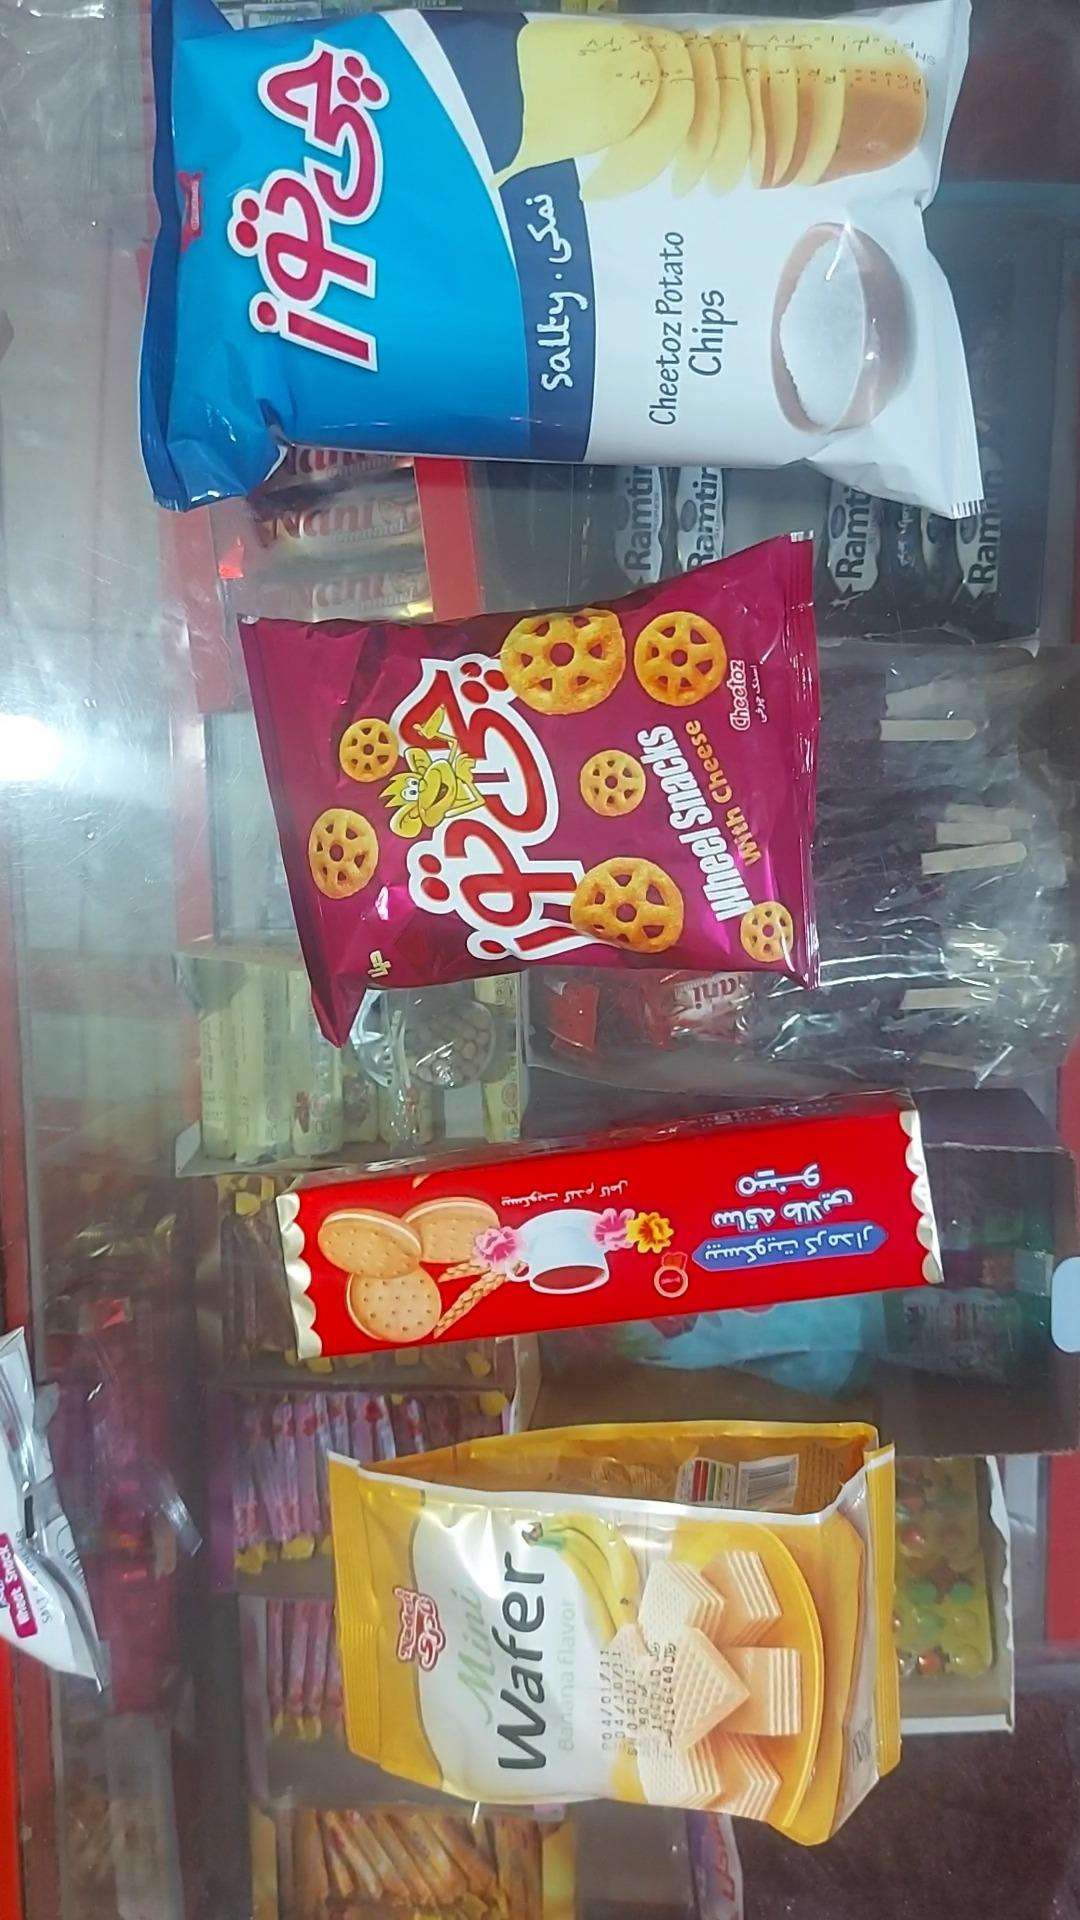Cheetoz salty chips: (137, 0, 985, 520)
Cheetoz wheelsnack: (239, 535, 822, 1051)
Minoo cream biscuit: (274, 1095, 942, 1361)
Naderi mini wafer: (324, 1422, 903, 1847)
